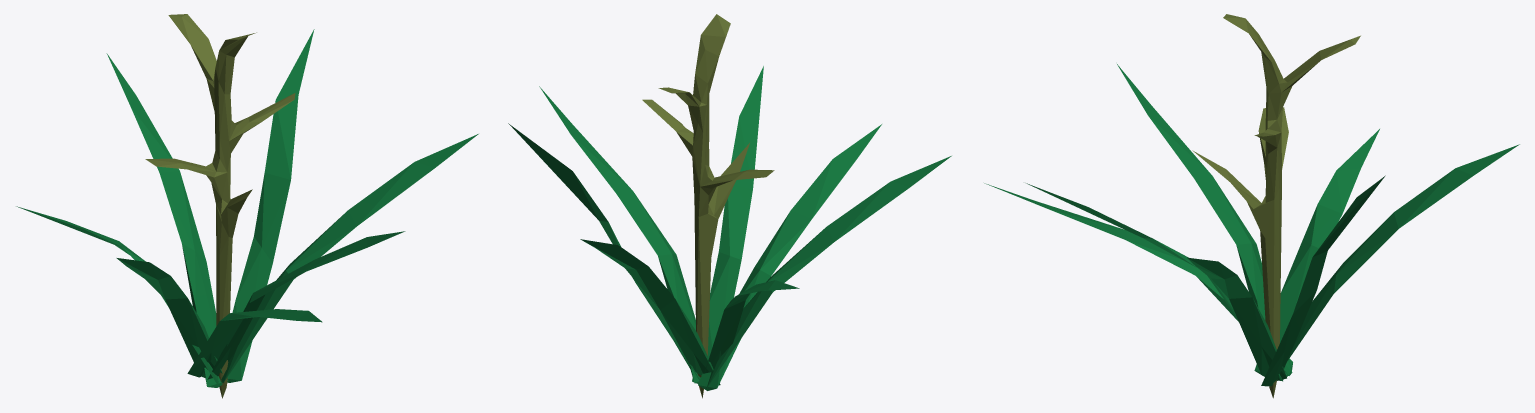
Rendered from Grass_3.fbx.
3 views of the same model, side by side, from view 1: azimuth 30°, elevation 25°; view 2: azimuth 150°, elevation 25°; view 3: azimuth 270°, elevation 25° (orthographic). The views are drawn at different scales.
Parts seen in each view (by area): view 1: Grass_3; view 2: Grass_3; view 3: Grass_3.
Part boxes in pixels (box(x1,y1,x2,y2)): Grass_3: box(16, 14, 478, 398); Grass_3: box(508, 14, 951, 398); Grass_3: box(984, 14, 1519, 398).
Size of the model in its own units: 0.9929 by 0.9095 by 1.15.
